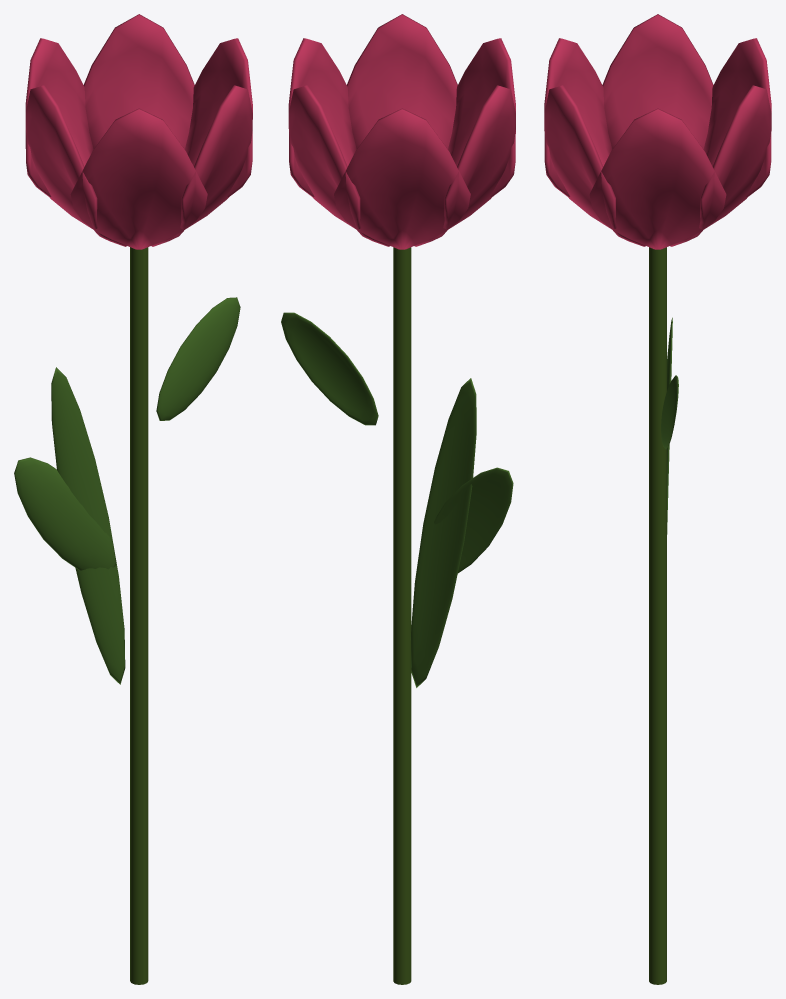
Rendered from F06-palette-v1.glb.
The picture shows the model from 3 angles, left to right: view 1: azimuth 30°, elevation 25°; view 2: azimuth 150°, elevation 25°; view 3: azimuth 270°, elevation 25°; orthographic projection.
Parts seen in each view (by area): view 1: F06_palette; view 2: F06_palette; view 3: F06_palette.
Part boxes in pixels (box(x1,y1,x2,y2)): F06_palette: box(14, 14, 252, 984); F06_palette: box(281, 14, 515, 984); F06_palette: box(544, 14, 771, 984).
Bounding box in the file's own units: 0.1738 × 0.6652 × 0.1491.
